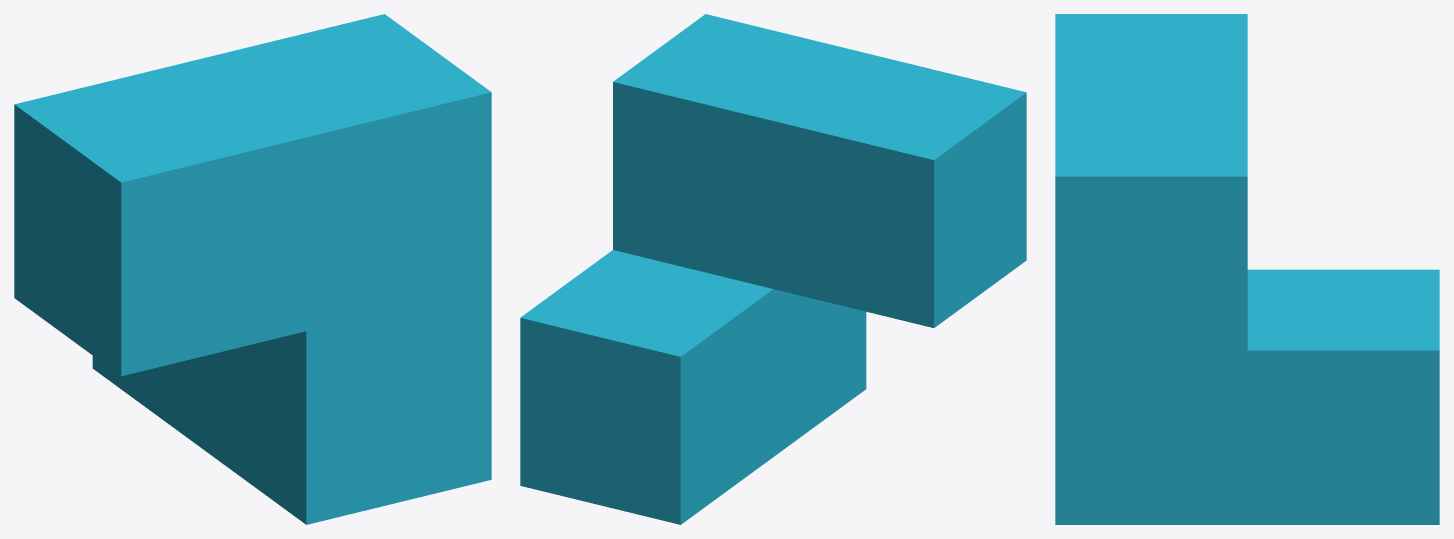
The model's file is Block6.fbx.
3 renders of one model, left to right at view 1: azimuth 30°, elevation 25°; view 2: azimuth 150°, elevation 25°; view 3: azimuth 270°, elevation 25°, orthographic. The views are drawn at different scales.
Parts seen in each view (by area): view 1: Cube.001; view 2: Cube.001; view 3: Cube.001.
Part boxes in pixels (left/top/right/bottom): Cube.001: left=14, top=14, right=491, bottom=524; Cube.001: left=520, top=14, right=1026, bottom=524; Cube.001: left=1055, top=14, right=1439, bottom=524.
Size of the model in its own units: 400 by 400 by 400.
